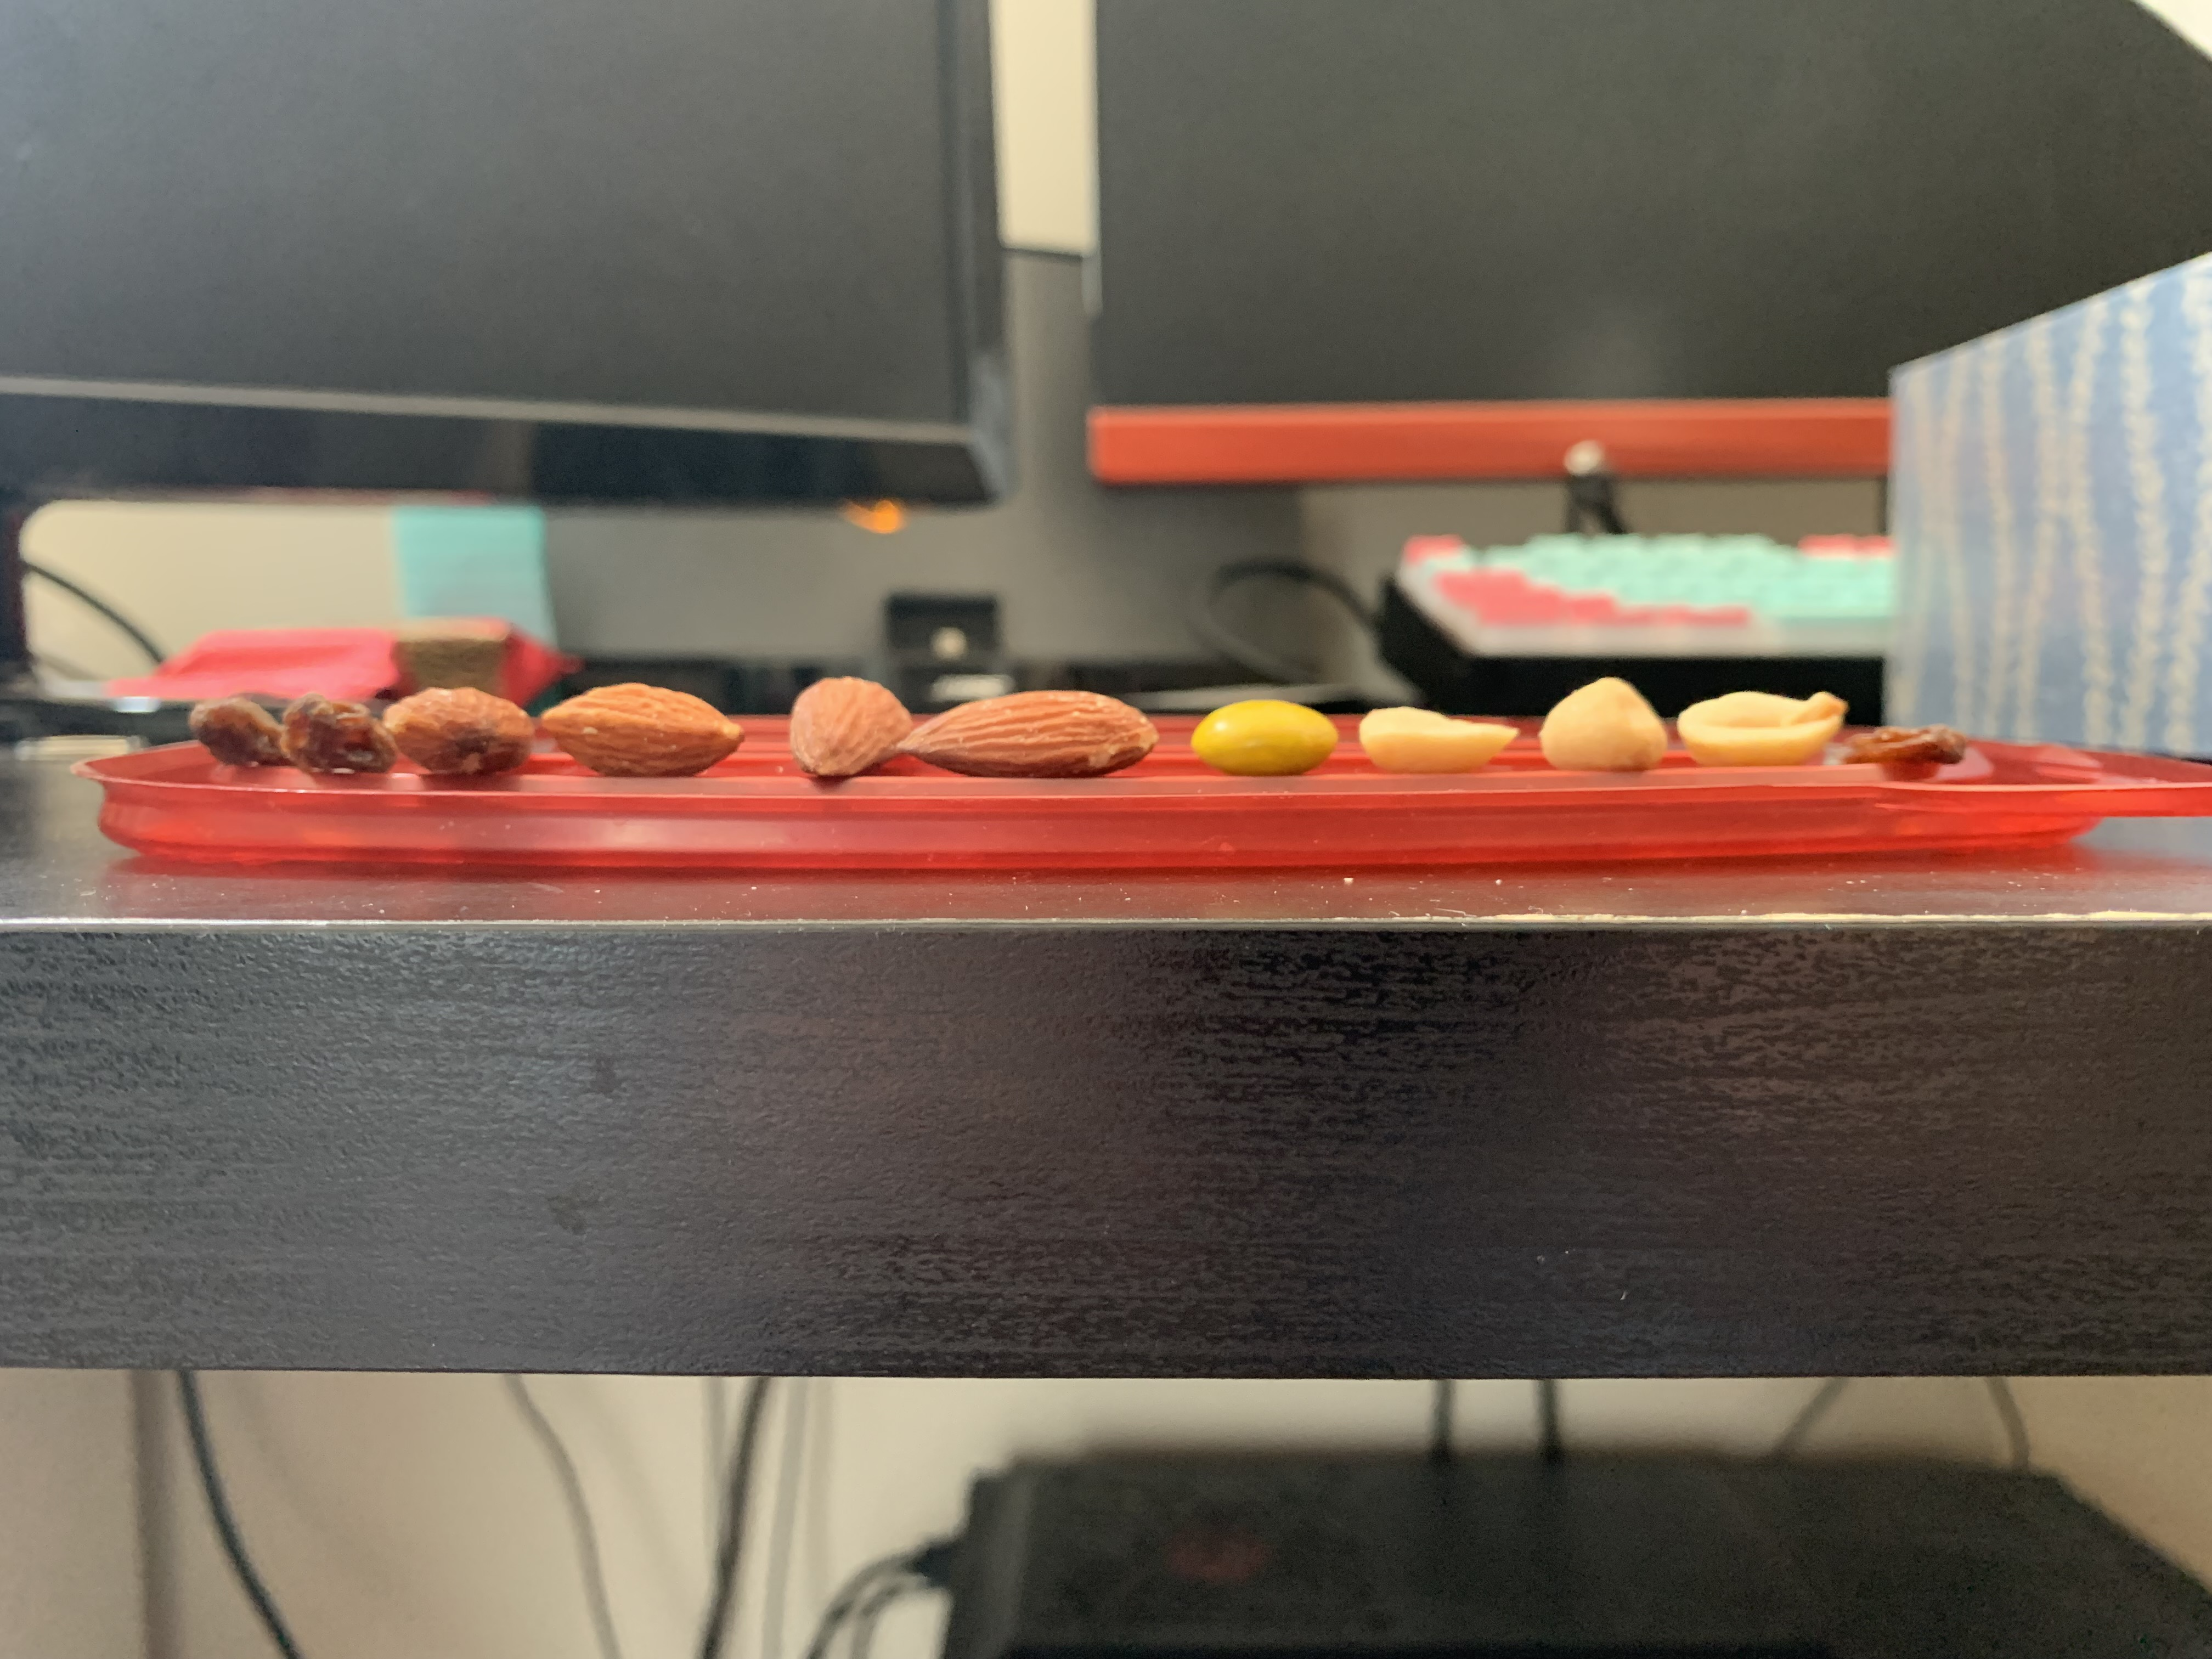almond: (897, 687, 1160, 782), (540, 681, 745, 781), (378, 687, 535, 777), (789, 673, 916, 782)
mm: (1190, 697, 1339, 775)
peanut: (1676, 688, 1850, 769), (1540, 676, 1669, 774), (1357, 706, 1519, 772)
raisin: (277, 690, 395, 779), (186, 695, 294, 769), (1844, 723, 1968, 765)
